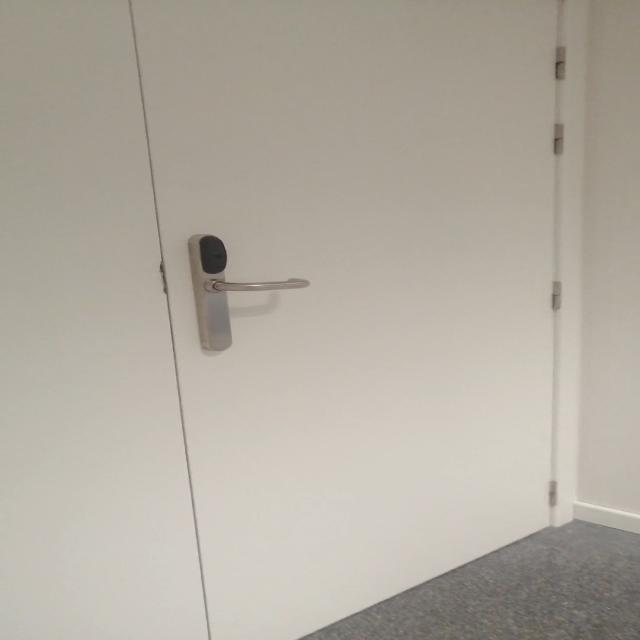door_handle: (196, 273, 320, 299)
